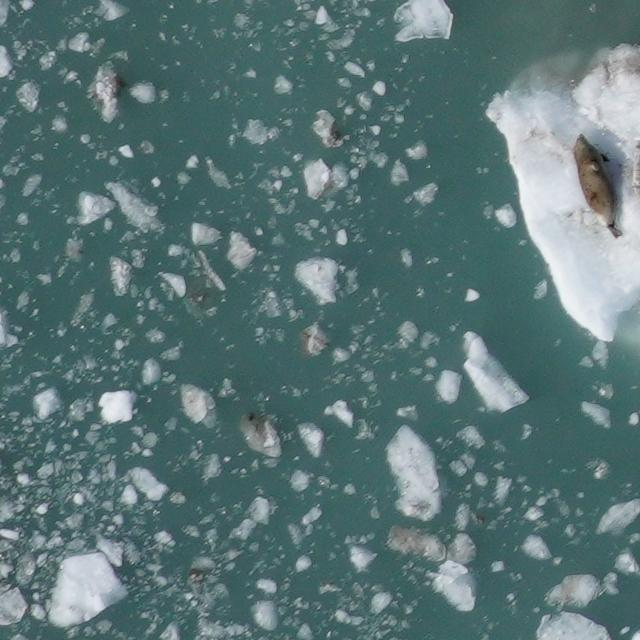seal: (568, 127, 627, 243)
